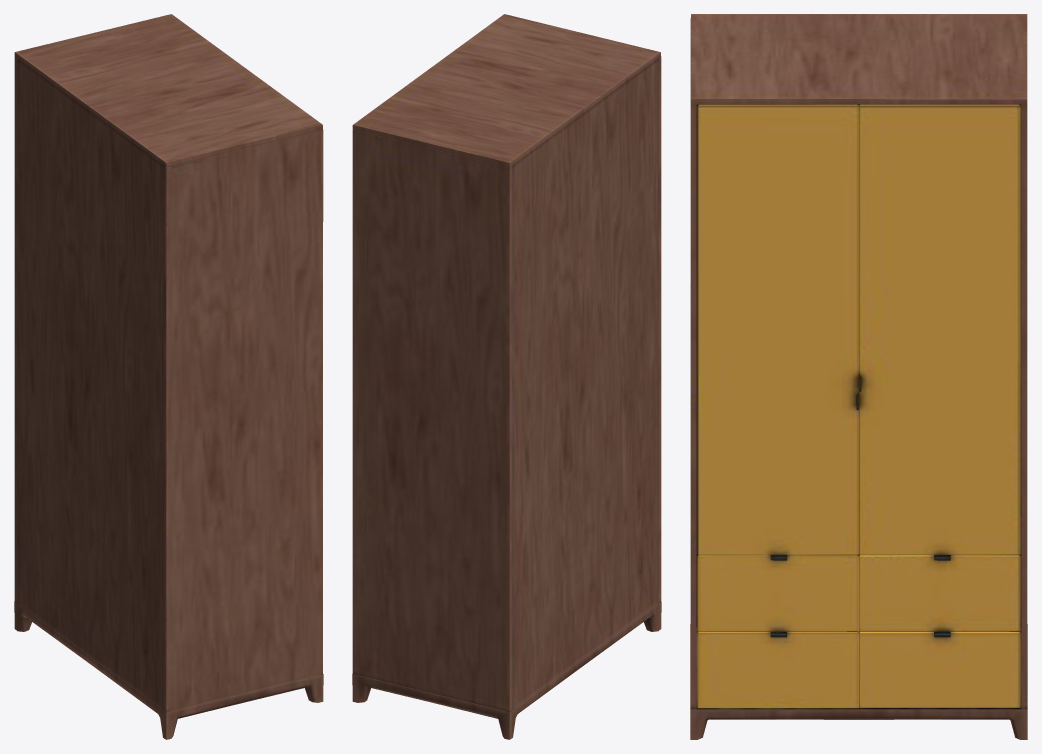
The model's file is Cupboard0018.obj.
3 renders of one model, left to right at view 1: azimuth 30°, elevation 25°; view 2: azimuth 150°, elevation 25°; view 3: azimuth 270°, elevation 25°, orthographic. The views are drawn at different scales.
Size of the model in its own units: 0.62 by 2.1 by 1.
Materials: 1 (1 with a texture image).
